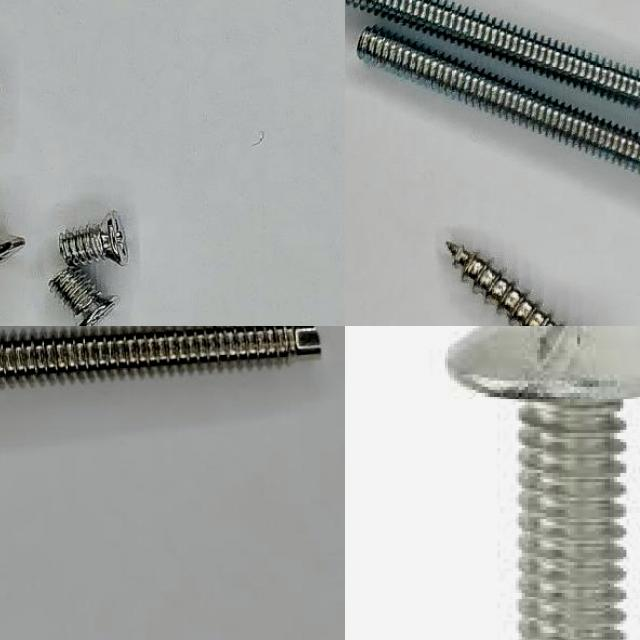Screw: (445, 326, 640, 640), (357, 30, 640, 172), (345, 0, 640, 107), (0, 326, 320, 385), (447, 244, 560, 326), (48, 268, 118, 326), (59, 212, 127, 267)
